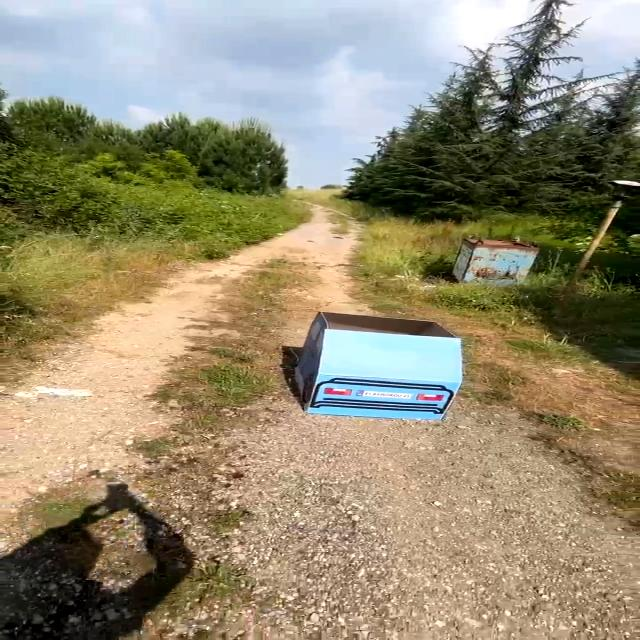blue_car: (284, 301, 485, 435)
